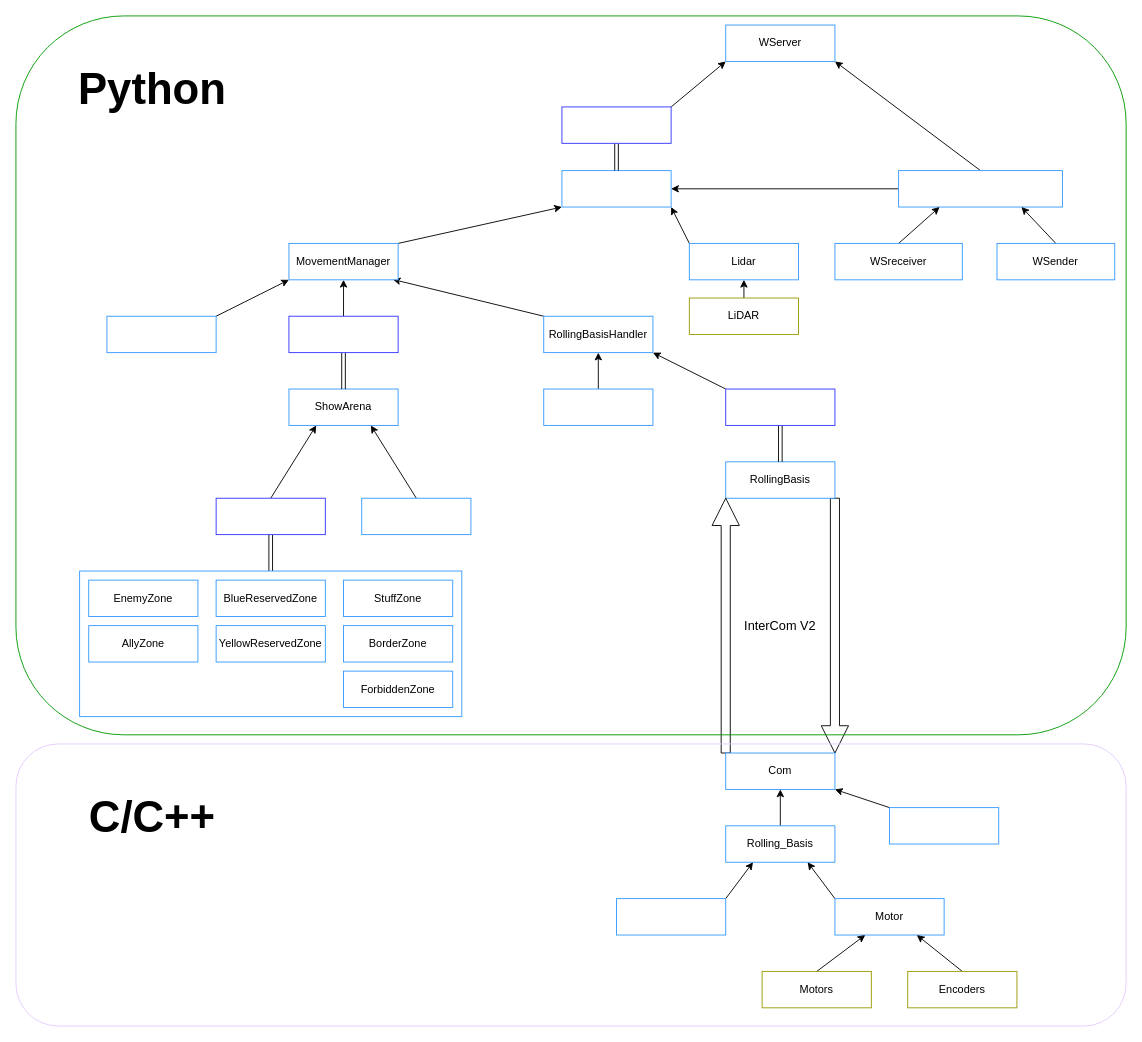
The diagram is 1142 pixels wide and 1042 high, and some of its shapes have lost their labels. The box of each missing label's shape, as (x1, y1, x2, y2) in pixels:
BaseArena: (288, 315, 398, 353)
BaseArenaZone: (215, 497, 325, 535)
Brain: (561, 106, 671, 143)
CRC: (889, 807, 999, 844)
Curve: (543, 388, 653, 425)
GridManager: (361, 497, 471, 535)
MainBrain: (561, 170, 671, 207)
PathFinder: (106, 315, 216, 353)
PID: (616, 898, 726, 935)
Teensy: (725, 388, 835, 425)
WServerRouteManager: (898, 170, 1062, 207)
